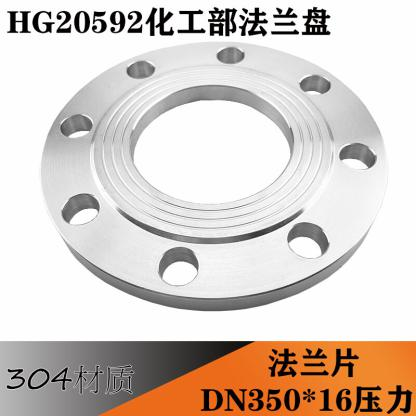FOD: (35, 37, 393, 309)
